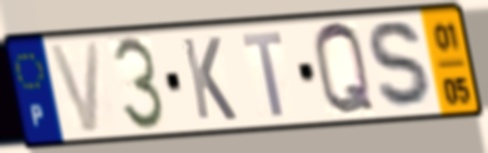3: (110, 33, 168, 135)
K: (178, 34, 240, 123)
Q: (310, 19, 379, 120)
S: (365, 17, 439, 114)
T: (238, 29, 287, 120)
V: (45, 38, 102, 136)
